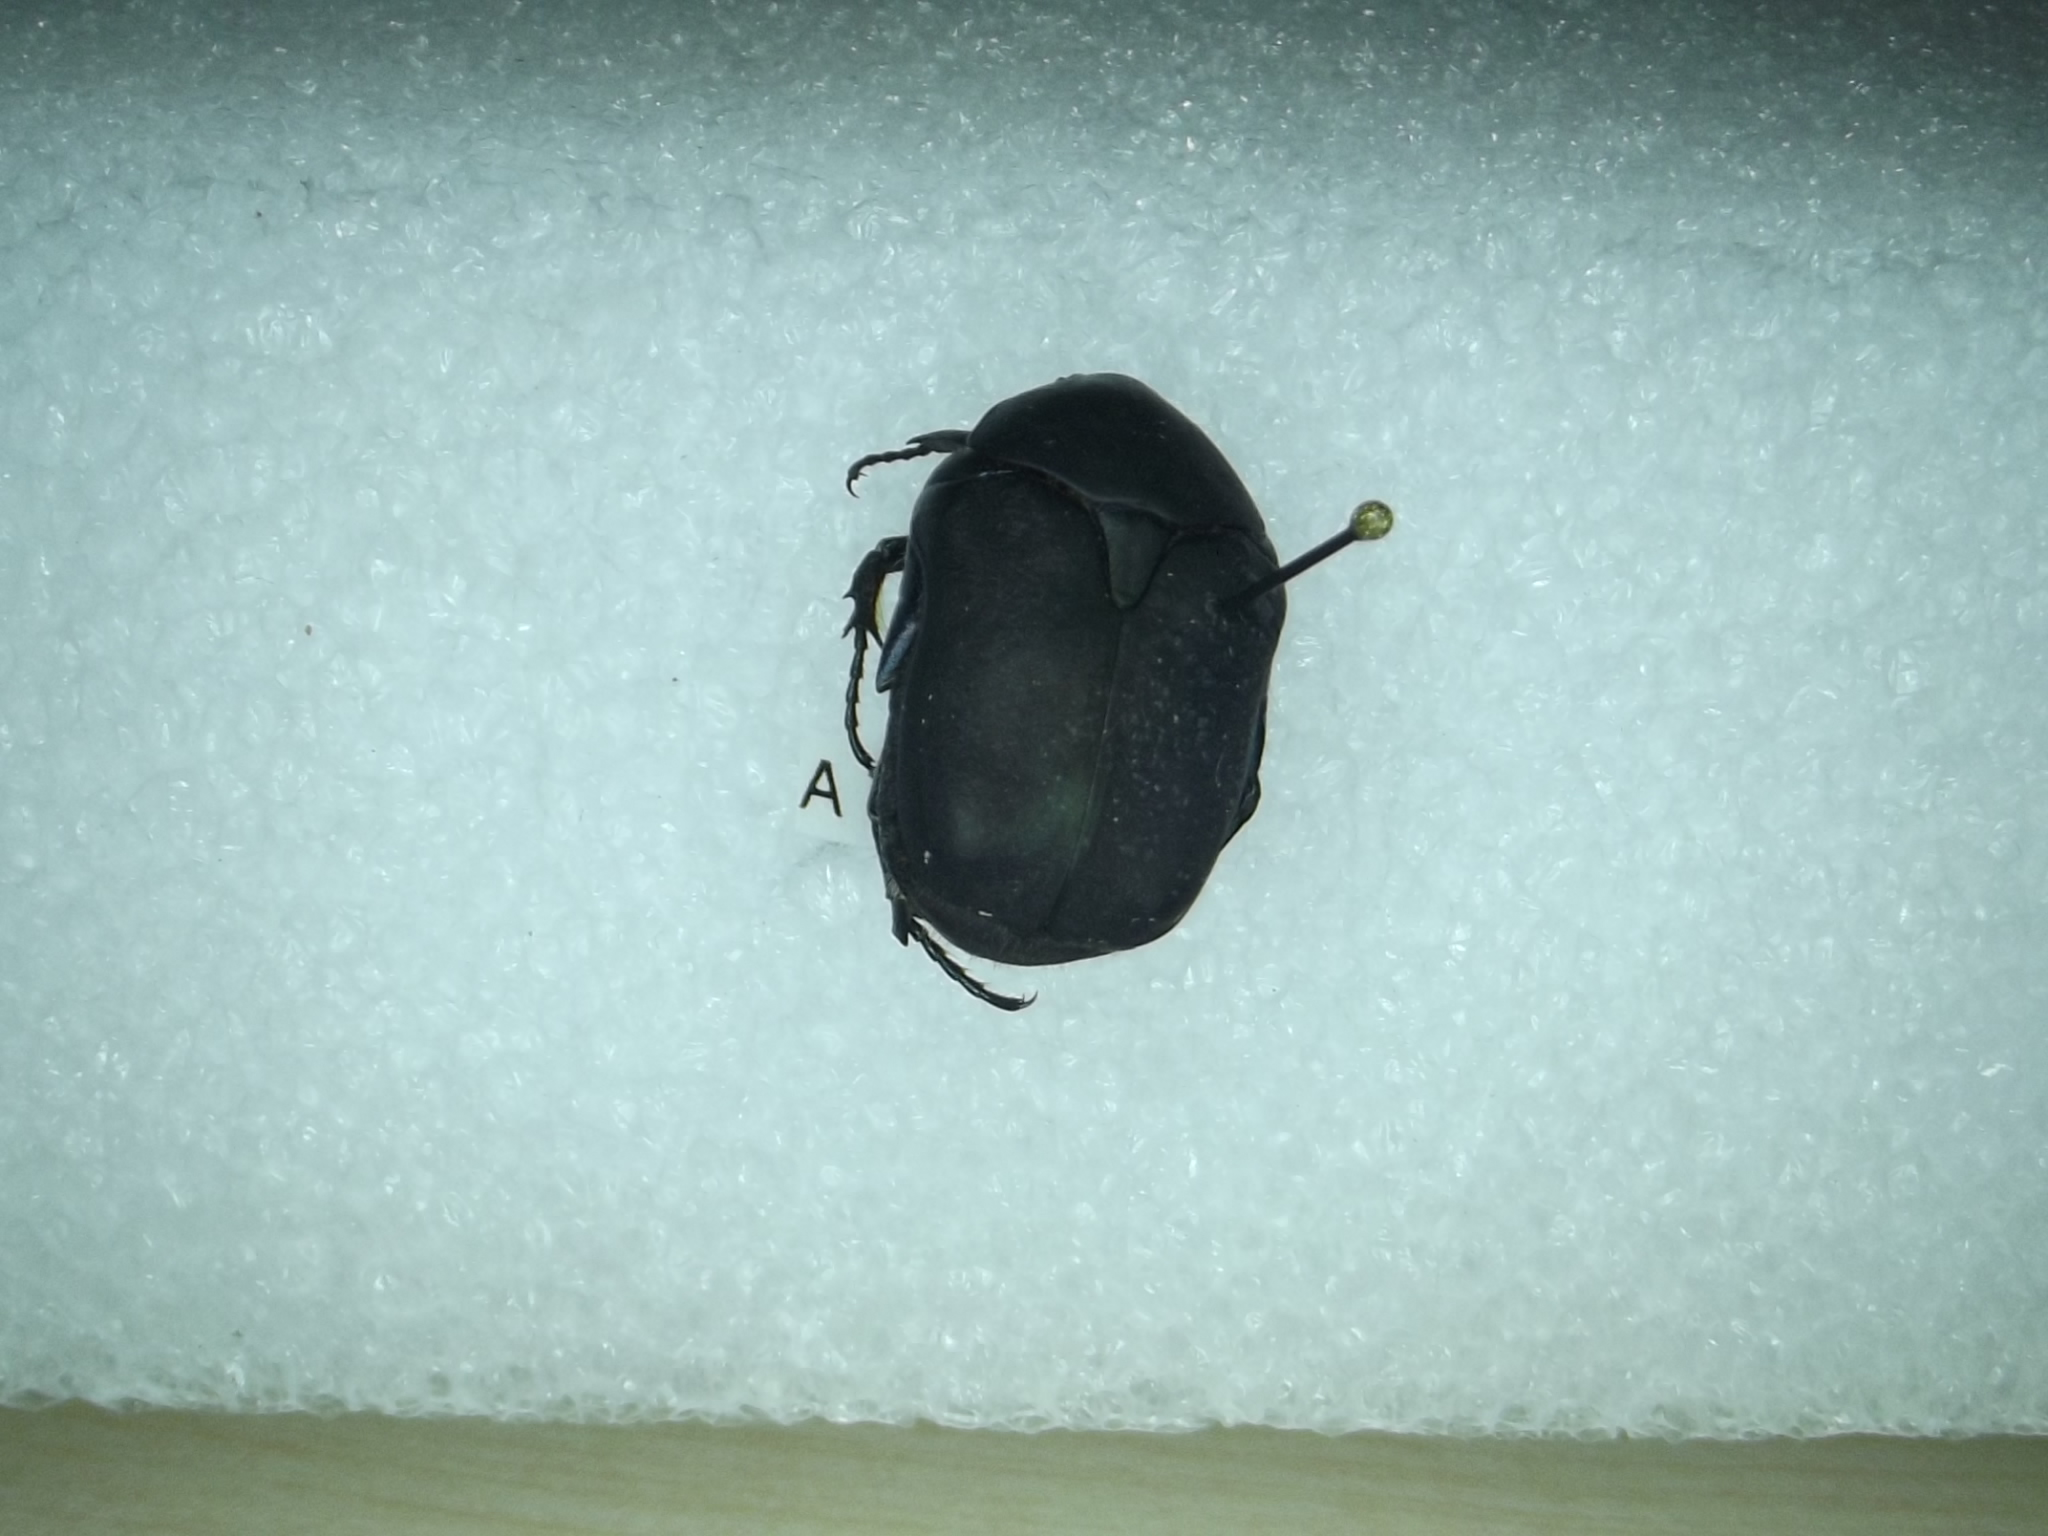Protaetia_afflicta: (827, 360, 1297, 1029)
